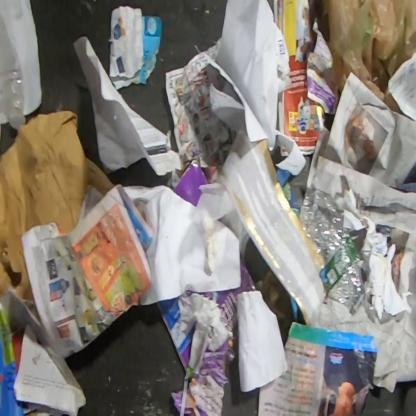cardboard: (196, 250, 256, 369), (155, 296, 196, 371), (173, 159, 210, 210)
rigid_plastic: (299, 188, 365, 316), (0, 0, 25, 131)
soft_plastic: (327, 0, 415, 122)
